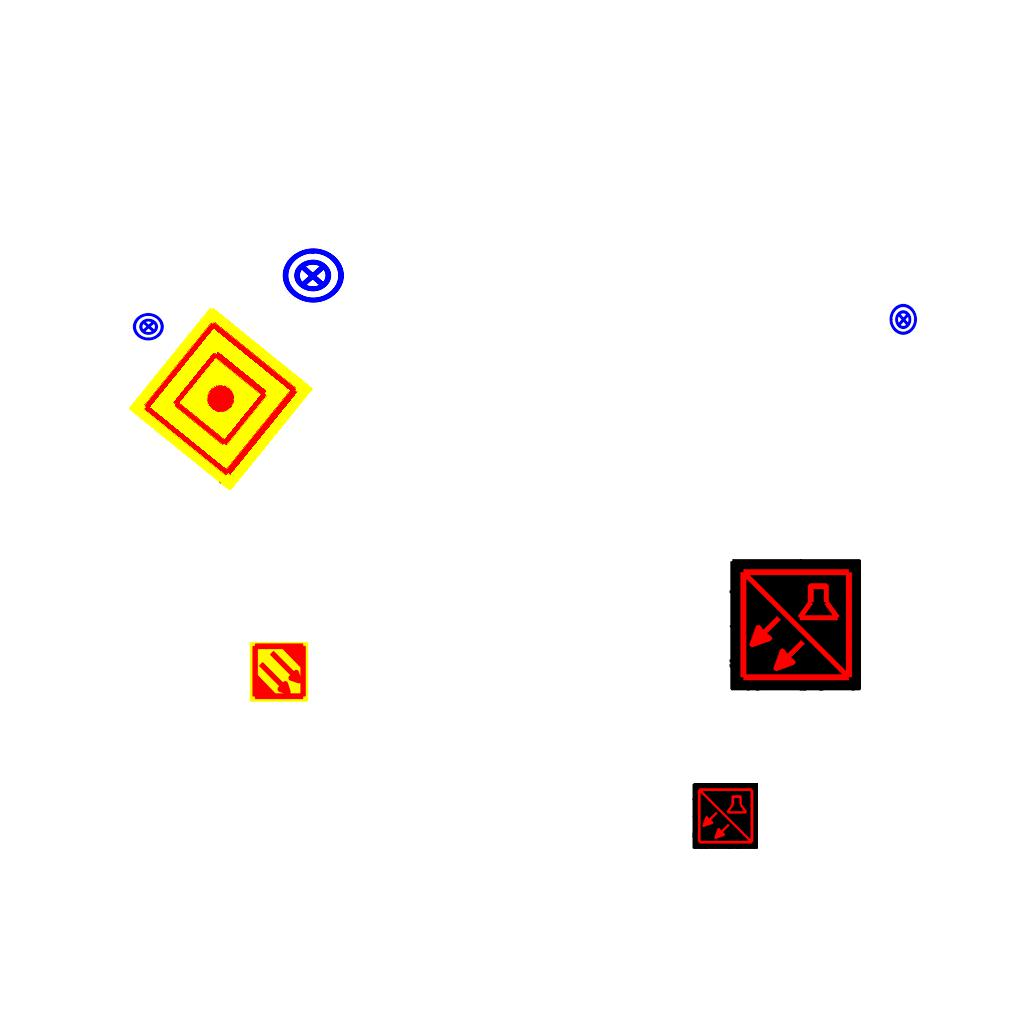ASR_Ansaugrauchmelder: (248, 641, 310, 703)
NAM-Nichtautomatischer_Melder: (128, 306, 314, 492)
OKW_Multisensormelder_(Kombination_optischer_Rauch-Kahlenmonoxid_Waerme-Melder): (729, 559, 861, 691), (692, 783, 758, 849)
Taster_beleuchtet: (280, 243, 346, 309), (887, 303, 920, 336), (132, 310, 165, 343)
